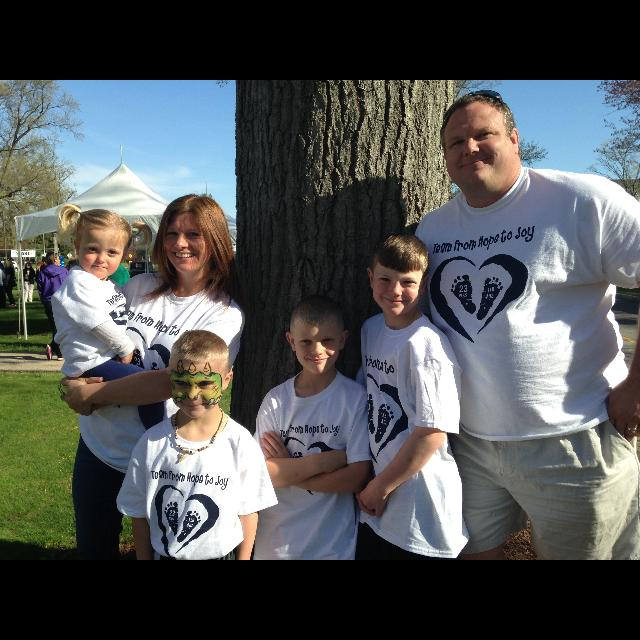head: (438, 94, 520, 188), (166, 328, 234, 420), (366, 232, 432, 318), (160, 193, 224, 277), (285, 297, 351, 375), (74, 210, 132, 282), (45, 251, 61, 267), (26, 263, 32, 269), (4, 260, 10, 266)
person: (34, 198, 186, 457), (34, 250, 74, 362), (2, 260, 18, 308), (21, 260, 37, 302)
